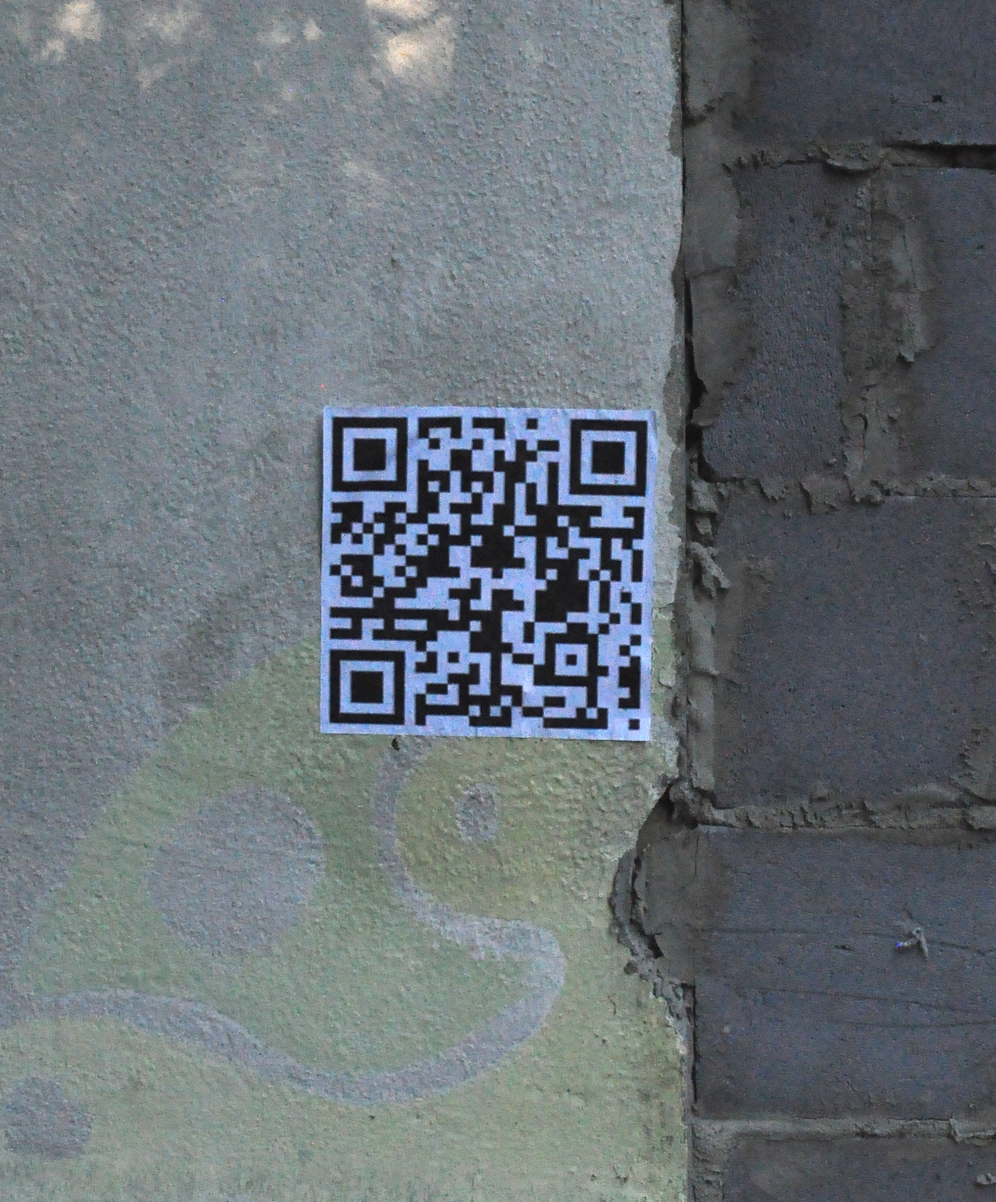QR-CODE: (329, 417, 647, 730)
